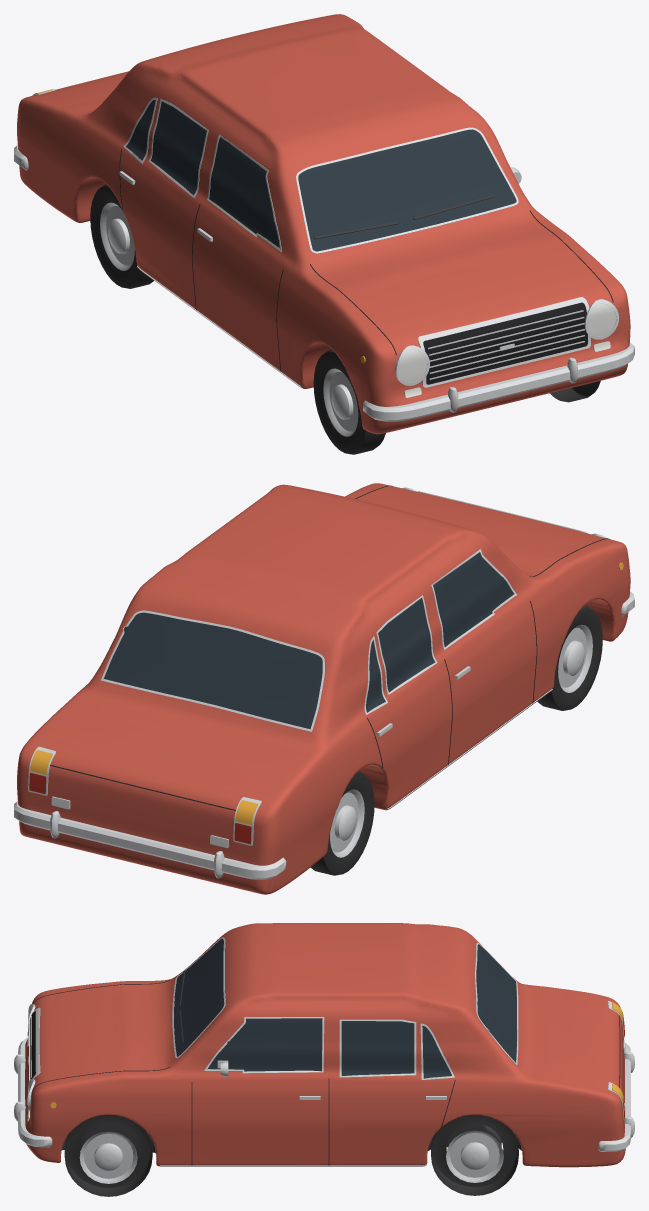
The model's file is fiat124.glb.
3 renders of one model, top to bottom at view 1: azimuth 30°, elevation 25°; view 2: azimuth 150°, elevation 25°; view 3: azimuth 270°, elevation 25°, orthographic. The views are drawn at different scales.
Parts seen in each view (by area): view 1: paint, glass, trim, wheel_fr, wheel_rr, headlights; view 2: paint, glass, trim, wheel_fr, wheel_rr, taillights; view 3: paint, glass, trim, wheel_fl, wheel_rl.
Part boxes in pixels (left/top/right/bottom): paint: left=17, top=14, right=630, bottom=434; glass: left=126, top=100, right=516, bottom=251; trim: left=14, top=89, right=634, bottom=421; wheel_fr: left=313, top=349, right=385, bottom=454; wheel_rr: left=90, top=184, right=153, bottom=288; headlights: left=399, top=303, right=616, bottom=382; paint: left=17, top=483, right=630, bottom=894; glass: left=104, top=552, right=513, bottom=729; trim: left=14, top=485, right=634, bottom=879; wheel_fr: left=537, top=605, right=602, bottom=710; wheel_rr: left=310, top=771, right=374, bottom=875; taillights: left=21, top=773, right=260, bottom=844; paint: left=25, top=923, right=625, bottom=1167; glass: left=174, top=938, right=516, bottom=1078; trim: left=14, top=937, right=634, bottom=1166; wheel_fl: left=64, top=1115, right=152, bottom=1196; wheel_rl: left=431, top=1115, right=518, bottom=1195.
Bounding box in the file's own units: 1.64 × 1.42 × 4.1.
